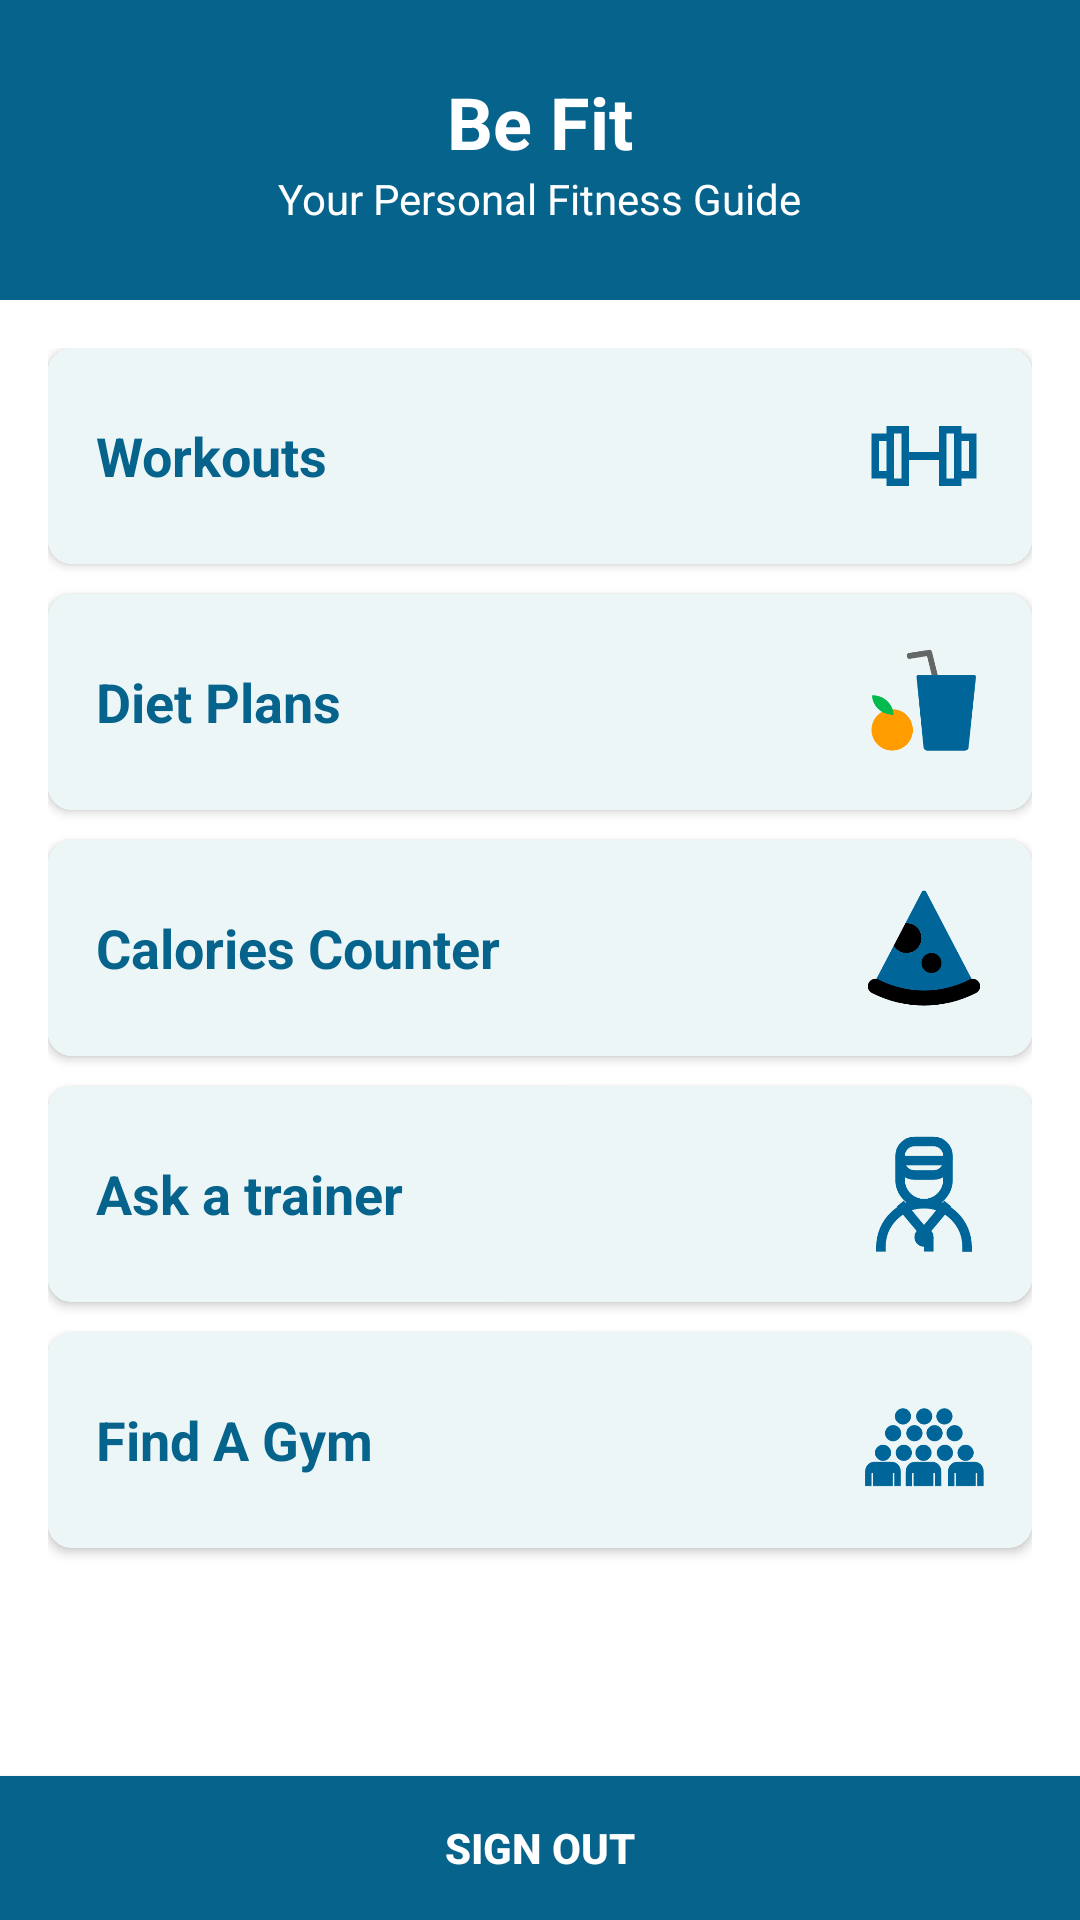

Icon bounding boxes for this 1080×1920 phone screenshot, format (left=x1, top=y1, right=x2, bottom=y2):
caleories: (left=868, top=890, right=980, bottom=1006)
comm: (left=865, top=1408, right=984, bottom=1487)
food: (left=871, top=650, right=976, bottom=751)
